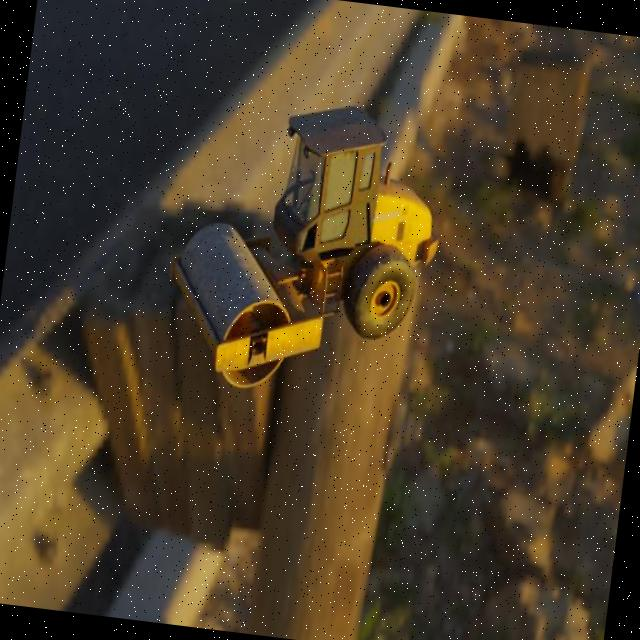Roller: (156, 85, 452, 408)
